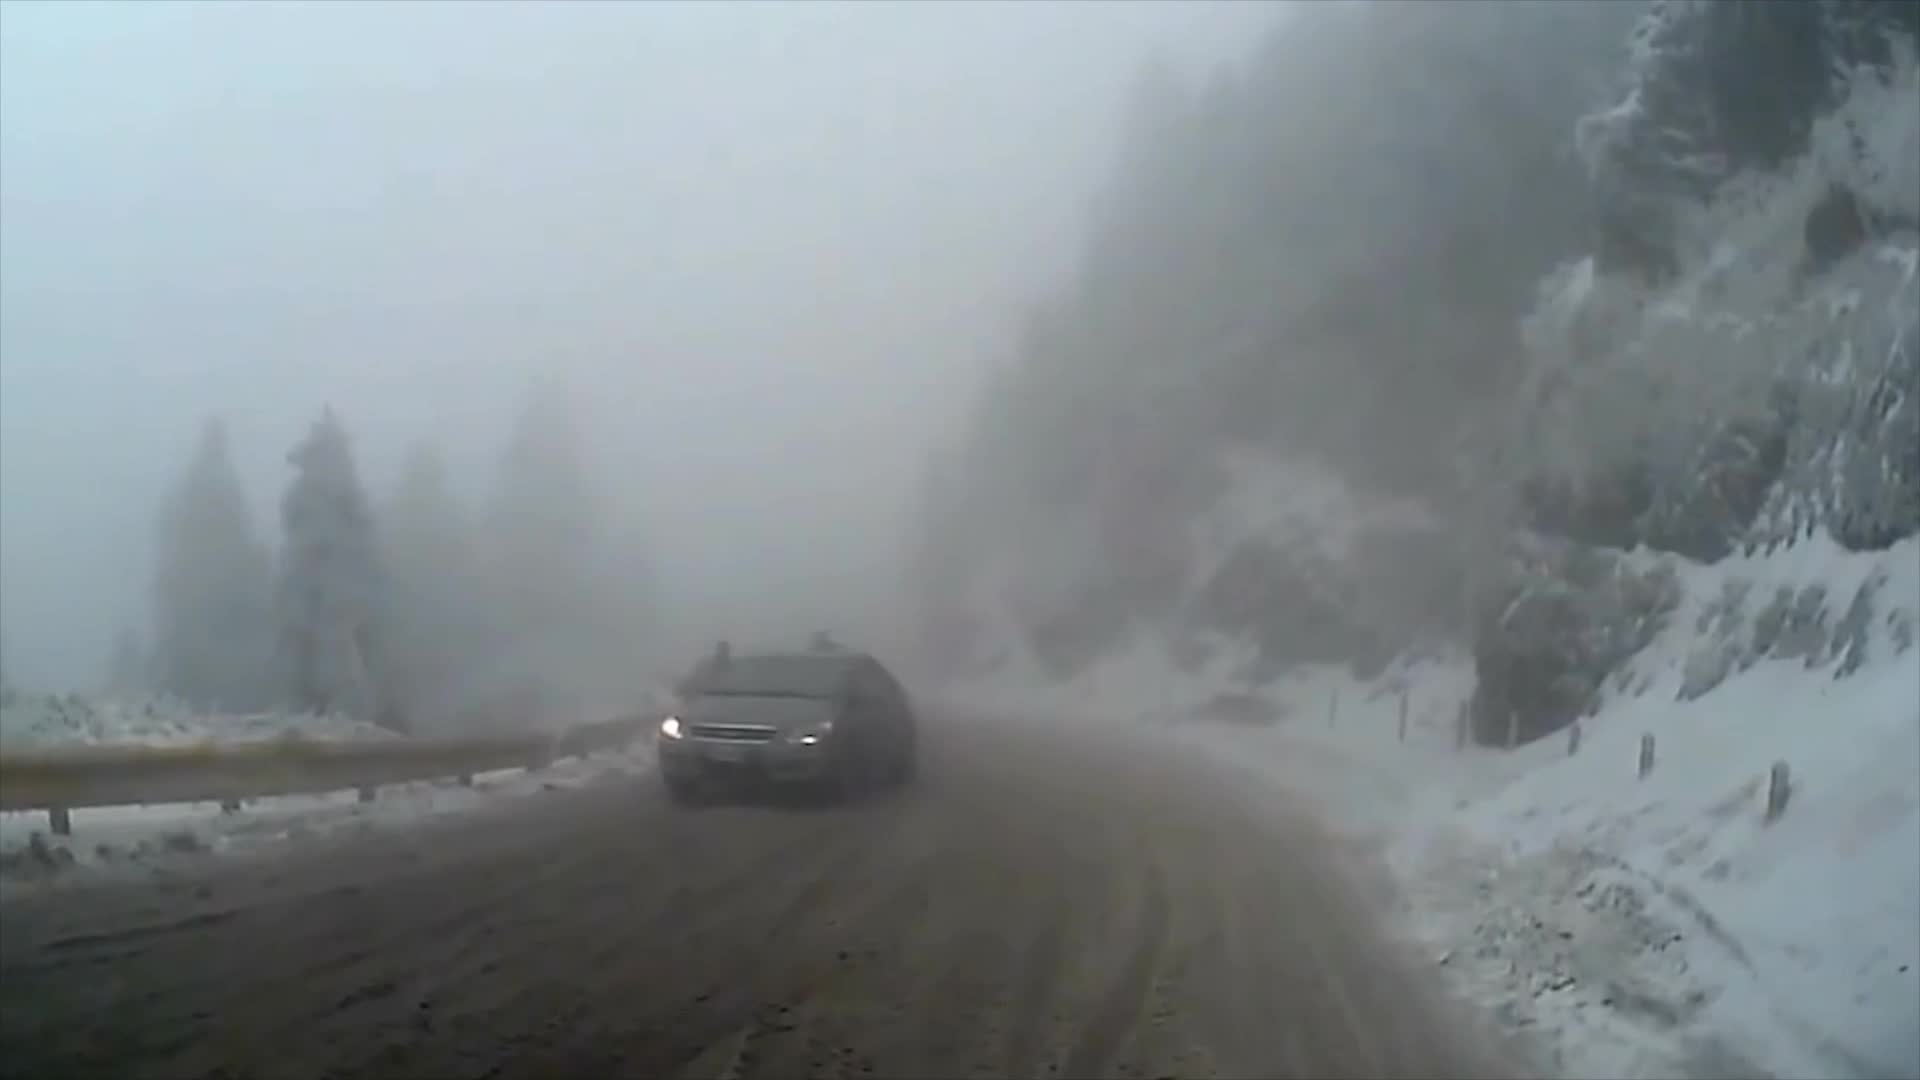vehicle: (655, 650, 920, 806)
